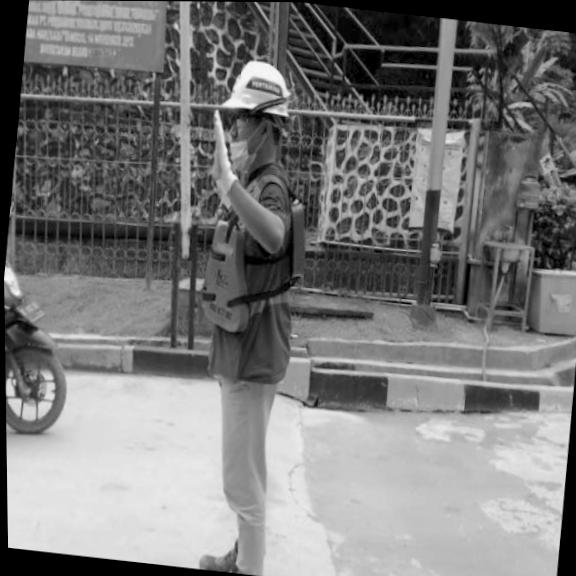safety_vest: (189, 187, 318, 338)
